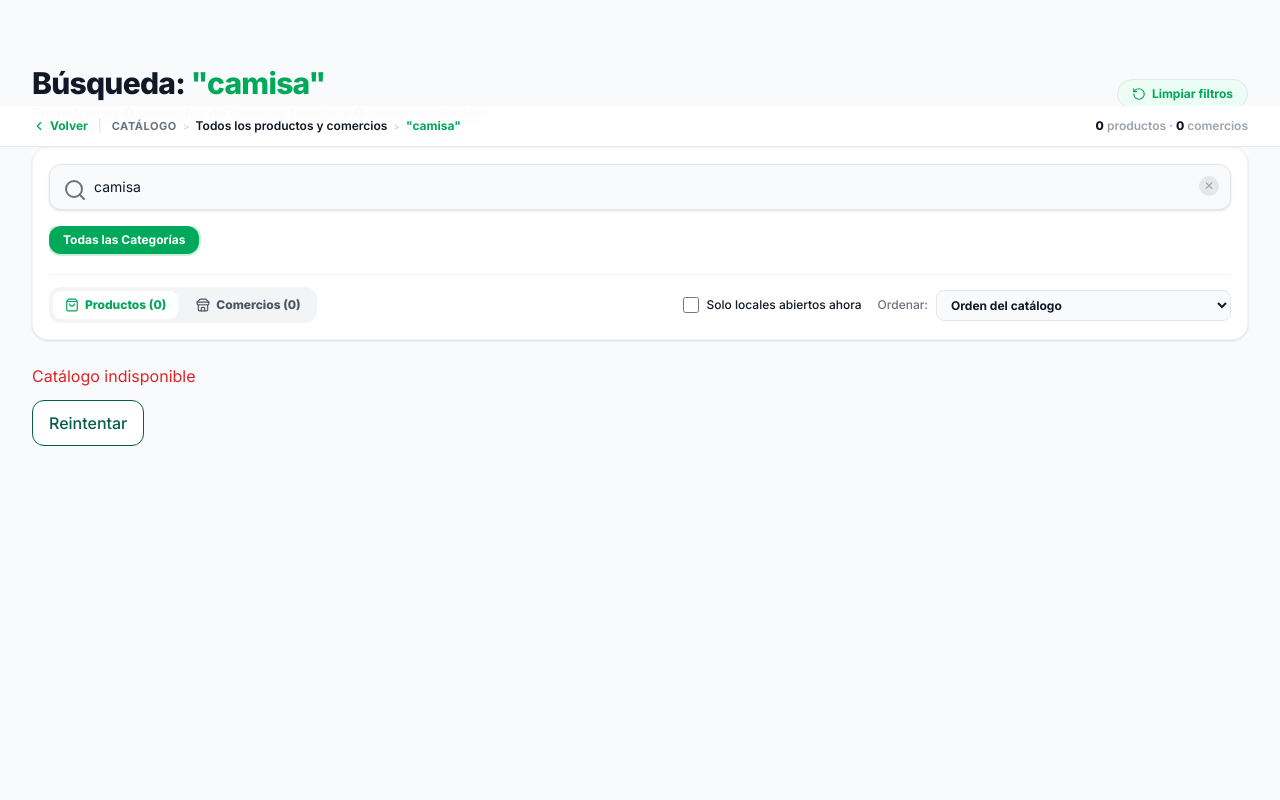
Scenario: muestra error de catálogo y reintenta a vacío sin mostrar entidades mock
This screenshot has width=1280, height=800.
Expected: the message reads "Catálogo indisponible", [32,366,196,386]
Click the button "Reintentar".
click(88, 423)  # box [32,400,144,446]
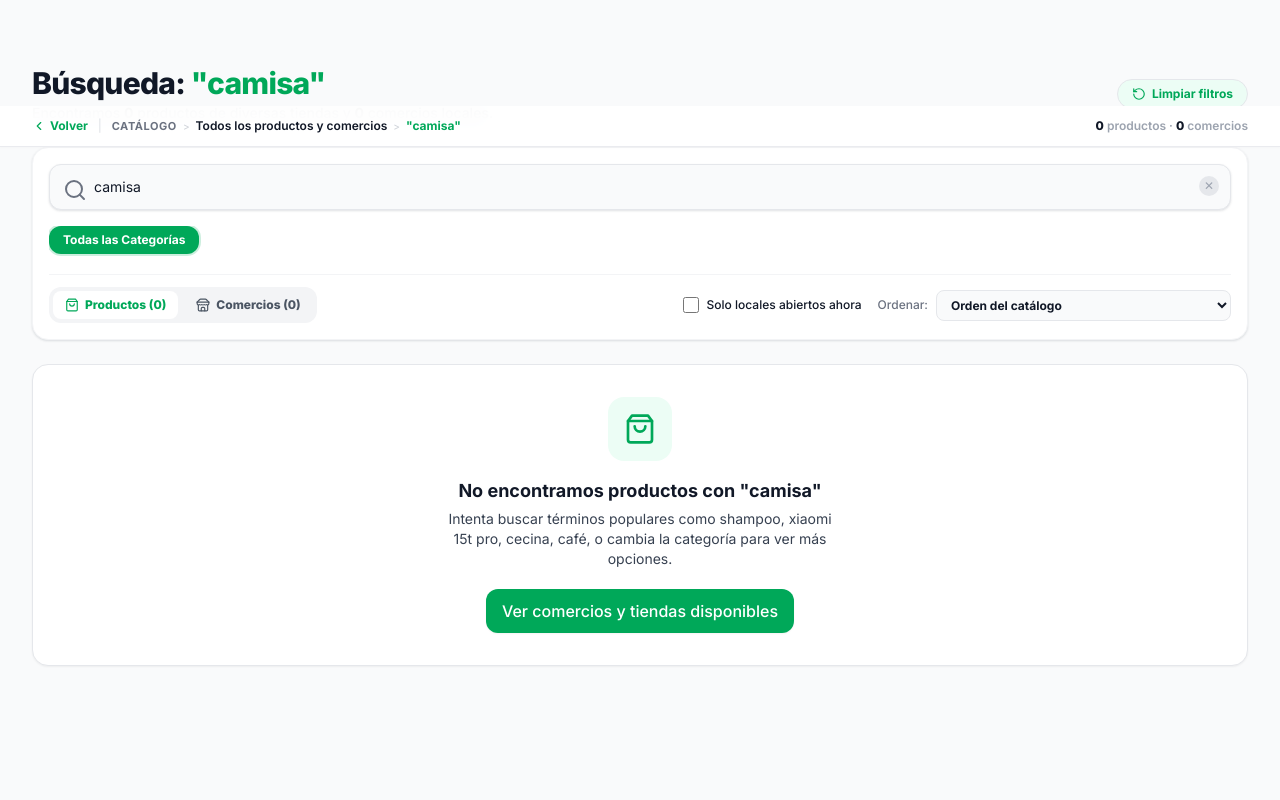
Now the heading "No encontramos productos con \"camisa\"" is shown, box [458,477,822,505]
